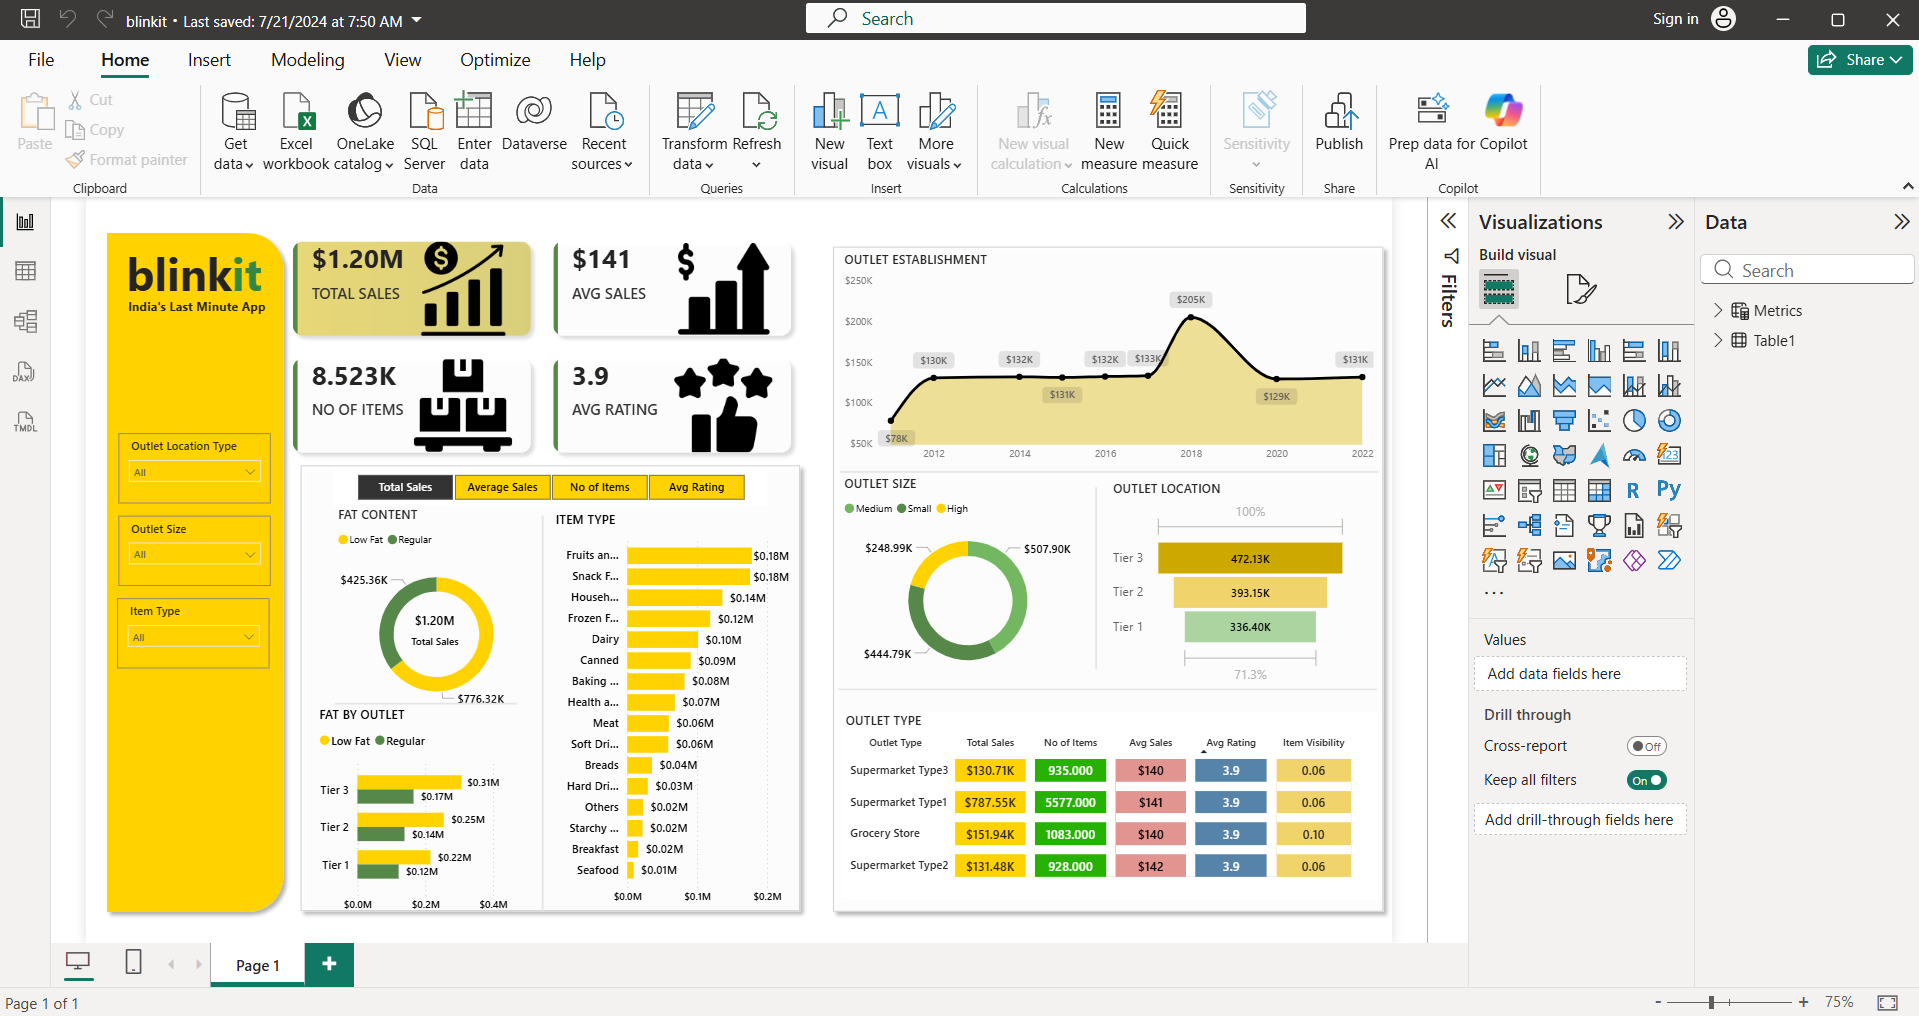

The page's visual inventory and layout, read from the dashboard file:
{"tool":"powerbi","page":{"name":"Page 1","canvas":[1400,800],"ordinal":0},"visuals":[{"type":"shape","box":[13,29.6,207.4,746.3],"z":0},{"type":"textbox","box":[27.8,44.4,175.9,88.9],"z":1000},{"type":"textbox","box":[40.7,103.7,196.3,29.6],"z":2000},{"type":"shape","box":[220.8,278.4,553.6,496],"z":3000},{"type":"donutChart","title":"FAT CONTENT","fields":{"Y":["Table1.Total Sales"],"Category":["Table1.Item Fat Content"]},"box":[265.4,330.8,221.2,230.8],"z":4000},{"type":"slicer","fields":{"Values":["Metrics.Metrics"]},"box":[264.8,290.7,464.8,40.7],"z":5000},{"type":"card","fields":{"Values":["Table1.Total Sales"]},"box":[294.2,428.8,161.5,69.2],"z":6000},{"type":"clusteredBarChart","title":"FAT BY OUTLET","fields":{"Y":["Table1.Total Sales"],"Category":["Table1.Outlet Location Type"],"Series":["Table1.Item Fat Content"]},"box":[244.8,545.6,219.2,230.4],"z":7000},{"type":"shape","box":[267.3,530.8,196.2,25],"z":8000},{"type":"shape","box":[463.5,342.3,51.9,425],"z":9000},{"type":"barChart","title":"ITEM TYPE","fields":{"Y":["Table1.Total Sales"],"Category":["Table1.Item Type"]},"box":[498.1,336.5,276.9,430.8],"z":10000},{"type":"shape","box":[792,44.8,608,731.2],"z":11000},{"type":"cardVisual","fields":{"Data":["Table1.Total Sales","Table1.Average Sales","Table1.No of Items","Table1.Avg Rating"]},"box":[204.8,30.4,569.6,260.8],"z":12000},{"type":"lineChart","title":"OUTLET ESTABLISHMENT","fields":{"Y":["Table1.Total Sales"],"Category":["Table1.Outlet Establishment Year"]},"box":[808,57.6,577.6,235.2],"z":13000},{"type":"shape","box":[808,278.4,577.6,32],"z":14000},{"type":"donutChart","title":"OUTLET SIZE","fields":{"Y":["Table1.Total Sales"],"Category":["Table1.Outlet Size"]},"box":[808,297.6,275.2,225.6],"z":15000},{"type":"shape","box":[1057.6,310.4,51.2,195.2],"z":16000},{"type":"funnel","title":"OUTLET LOCATION","fields":{"Y":["Sum(Table1.Sales)"],"Category":["Table1.Outlet Location Type"]},"box":[1096,302.4,261,225],"z":17000},{"type":"shape","box":[806.4,512,577.6,32],"z":18000},{"type":"pivotTable","title":"OUTLET TYPE","fields":{"Values":["Table1.Total Sales","Table1.No of Items","Table1.Average Sales","Table1.Avg Rating","Avg(Table1.Item Visibility)"],"Rows":["Table1.Outlet Type"]},"box":[809.6,552,576,201.6],"z":19000},{"type":"slicer","fields":{"Values":["Table1.Outlet Location Type"]},"box":[35.2,252.8,163.2,75.2],"z":20000},{"type":"slicer","fields":{"Values":["Table1.Outlet Size"]},"box":[35.2,342.4,163.2,75.2],"z":21000},{"type":"slicer","fields":{"Values":["Table1.Item Type"]},"box":[33.6,430.4,163.2,75.2],"z":22000}]}

Visuals, with their boxes on the page's 1400x800 design canvas (x1, y1, x2, y2). These are canvas units, not pixel positions in the 1919x1016 screenshot, which may show the page scaled, cropped or inside an application window:
shape: {"left": 13, "top": 30, "right": 220, "bottom": 776}
textbox: {"left": 28, "top": 44, "right": 204, "bottom": 133}
textbox: {"left": 41, "top": 104, "right": 237, "bottom": 133}
shape: {"left": 221, "top": 278, "right": 774, "bottom": 774}
"FAT CONTENT" donutChart: {"left": 265, "top": 331, "right": 487, "bottom": 562}
slicer - Metrics.Metrics: {"left": 265, "top": 291, "right": 730, "bottom": 331}
card - Table1.Total Sales: {"left": 294, "top": 429, "right": 456, "bottom": 498}
"FAT BY OUTLET" clusteredBarChart: {"left": 245, "top": 546, "right": 464, "bottom": 776}
shape: {"left": 267, "top": 531, "right": 464, "bottom": 556}
shape: {"left": 464, "top": 342, "right": 515, "bottom": 767}
"ITEM TYPE" barChart: {"left": 498, "top": 336, "right": 775, "bottom": 767}
shape: {"left": 792, "top": 45, "right": 1400, "bottom": 776}
cardVisual - Table1.Total Sales x Table1.Average Sales: {"left": 205, "top": 30, "right": 774, "bottom": 291}
"OUTLET ESTABLISHMENT" lineChart: {"left": 808, "top": 58, "right": 1386, "bottom": 293}
shape: {"left": 808, "top": 278, "right": 1386, "bottom": 310}
"OUTLET SIZE" donutChart: {"left": 808, "top": 298, "right": 1083, "bottom": 523}
shape: {"left": 1058, "top": 310, "right": 1109, "bottom": 506}
"OUTLET LOCATION" funnel: {"left": 1096, "top": 302, "right": 1357, "bottom": 527}
shape: {"left": 806, "top": 512, "right": 1384, "bottom": 544}
"OUTLET TYPE" pivotTable: {"left": 810, "top": 552, "right": 1386, "bottom": 754}
slicer - Table1.Outlet Location Type: {"left": 35, "top": 253, "right": 198, "bottom": 328}
slicer - Table1.Outlet Size: {"left": 35, "top": 342, "right": 198, "bottom": 418}
slicer - Table1.Item Type: {"left": 34, "top": 430, "right": 197, "bottom": 506}
